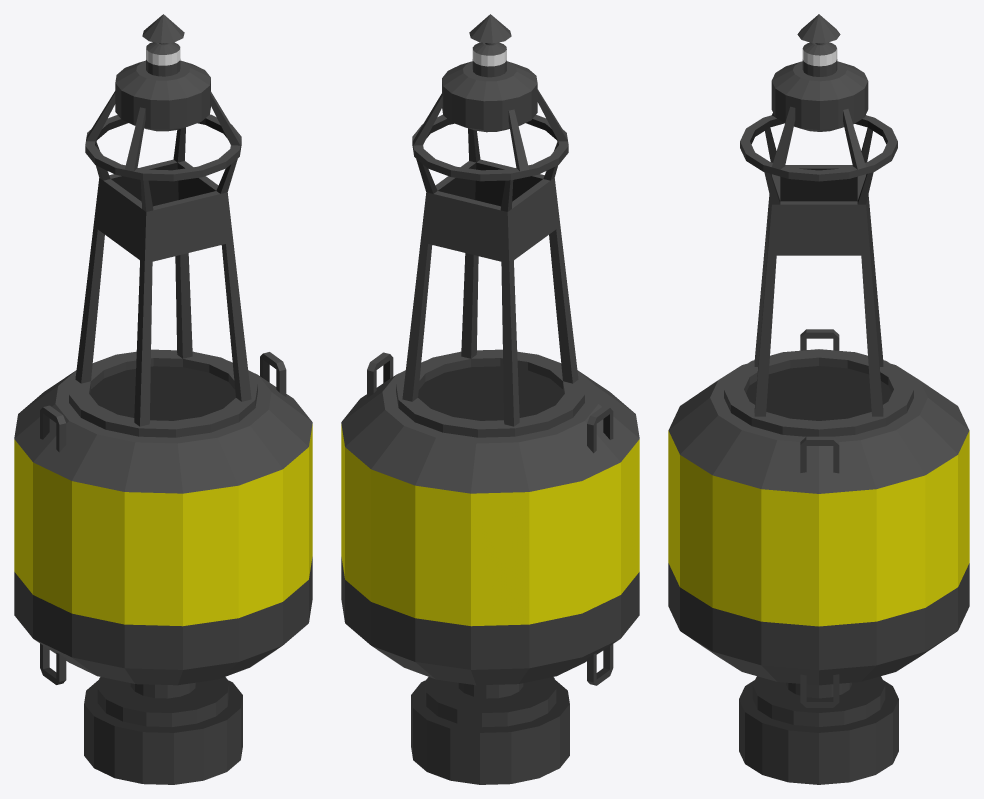
The model's file is buoy_e.glb.
3 renders of one model, left to right at view 1: azimuth 30°, elevation 25°; view 2: azimuth 150°, elevation 25°; view 3: azimuth 270°, elevation 25°, orthographic.
Parts seen in each view (by area): view 1: buoy_lowpoly.004; view 2: buoy_lowpoly.004; view 3: buoy_lowpoly.004.
Boxes of the visible parts, bbox=[...] form: buoy_lowpoly.004: bbox=[14, 14, 312, 784]; buoy_lowpoly.004: bbox=[341, 14, 639, 784]; buoy_lowpoly.004: bbox=[668, 14, 969, 784].
Size of the model in its own units: 2.17 by 5.85 by 2.17.
Materials: 1 (1 with a texture image).
